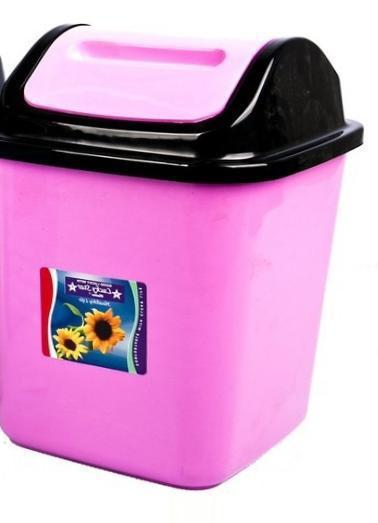Bote de Basura: (0, 24, 345, 485)
